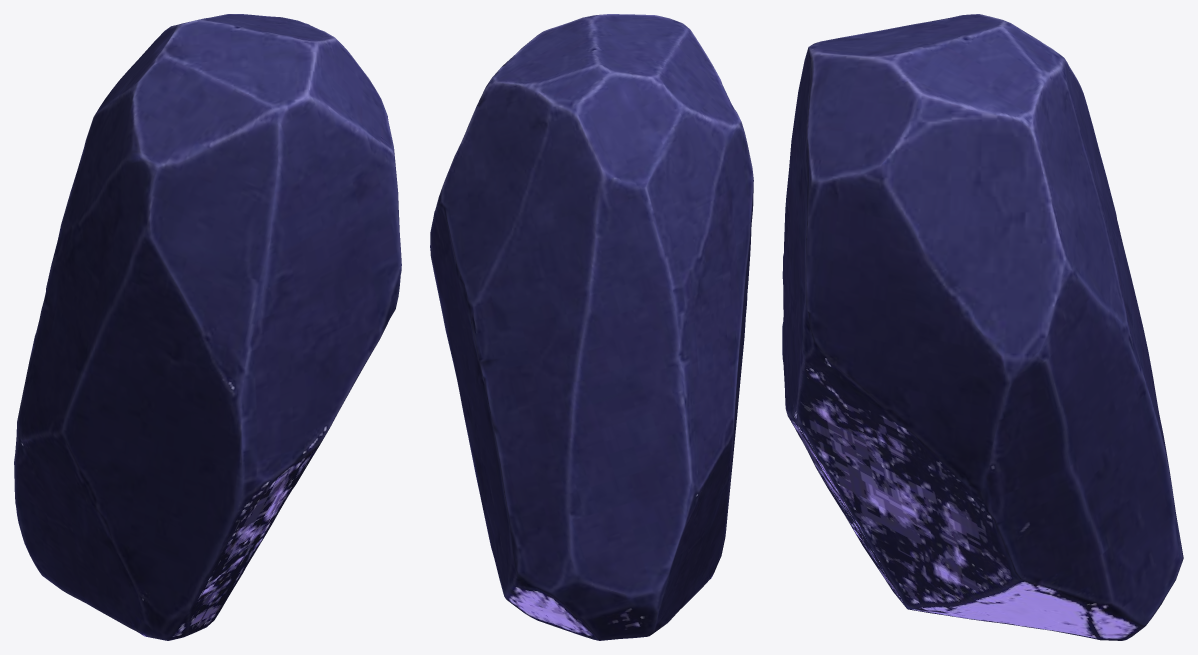
File: sky_boulder_f_nexus.glb
3 renders of one model, left to right at view 1: azimuth 30°, elevation 25°; view 2: azimuth 150°, elevation 25°; view 3: azimuth 270°, elevation 25°, orthographic. The views are drawn at different scales.
Visible parts, largest first — view 1: boulder_f; view 2: boulder_f; view 3: boulder_f.
Boxes of the visible parts, <box> form: boulder_f: <box>14,14,401,640</box>; boulder_f: <box>430,14,753,640</box>; boulder_f: <box>782,14,1183,640</box>.
Size of the model in its own units: 6.09 by 10.51 by 6.27.
Materials: 1 (1 with a texture image).
